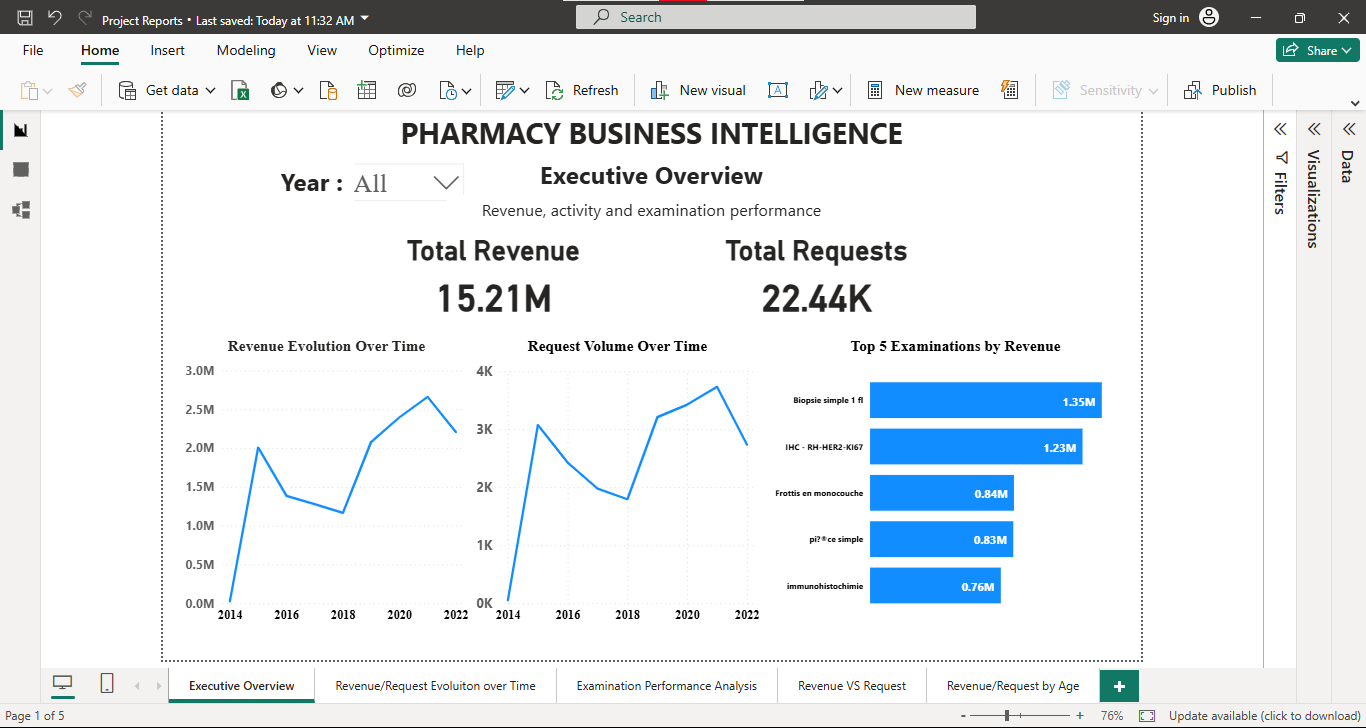

The page's visual inventory and layout, read from the dashboard file:
{"tool":"powerbi","page":{"name":"Executive Overview","canvas":[1280,720],"ordinal":0},"visuals":[{"type":"textbox","box":[268.4,0,742.3,68.1],"z":0},{"type":"slicer","fields":{"Values":["Bi Db Datamarts.Date.Variation.Hiérarchie de dates.Année"]},"box":[233,60.2,171.5,69.4],"z":2,"group":"g1"},{"type":"textbox","box":[149.2,65.4,100.8,58.9],"z":8,"group":"g1"},{"type":"textbox","box":[447.7,56.3,383.6,55],"z":1000},{"type":"card","title":"Total Revenue","fields":{"Values":["Sum(Bi Db Datamarts.CA)"]},"box":[277.5,155.8,310.3,125.7],"z":2000},{"type":"lineChart","title":"Revenue Evolution Over Time","fields":{"Y":["Sum(Bi Db Datamarts.CA)"],"Category":["Bi Db Datamarts.Date.Variation.Hiérarchie de dates.Année","Bi Db Datamarts.Date.Variation.Hiérarchie de dates.Trimestre","Bi Db Datamarts.Date.Variation.Hiérarchie de dates.Mois","Bi Db Datamarts.Date.Variation.Hiérarchie de dates.Jour"]},"box":[23.6,297.2,380.9,379.6],"z":3000},{"type":"lineChart","title":"Request Volume Over Time","fields":{"Y":["Sum(Bi Db Datamarts.Nbr Demande)"],"Category":["Bi Db Datamarts.Date.Variation.Hiérarchie de dates.Année","Bi Db Datamarts.Date.Variation.Hiérarchie de dates.Trimestre","Bi Db Datamarts.Date.Variation.Hiérarchie de dates.Mois","Bi Db Datamarts.Date.Variation.Hiérarchie de dates.Jour"]},"box":[404.5,297.2,380.9,379.6],"z":4000},{"type":"clusteredBarChart","title":"Top 5 Examinations by Revenue","fields":{"Category":["Bi Db Datamarts.Exam Designation"],"Y":["Sum(Bi Db Datamarts.CA)"]},"box":[794.6,297.2,485.7,379.6],"z":5000},{"type":"group","id":"g1","title":"Group 1","box":[149.2,60.2,255.3,69.4],"z":6000},{"type":"card","title":"Total Requests","fields":{"Values":["Sum(Bi Db Datamarts.Nbr Demande)"]},"box":[700.4,155.8,310.3,125.7],"z":7000},{"type":"textbox","box":[371.8,111.3,535.4,44.5],"z":8001}]}

Visuals, with their boxes on the page's 1280x720 design canvas (x1, y1, x2, y2). These are canvas units, not pixel positions in the 1366x728 screenshot, which may show the page scaled, cropped or inside an application window:
textbox: (268,0,1011,68)
slicer - Bi Db Datamarts.Date.Variation.Hiérarchie de dates.Année: (233,60,404,130)
textbox: (149,65,250,124)
textbox: (448,56,831,111)
"Total Revenue" card: (278,156,588,282)
"Revenue Evolution Over Time" lineChart: (24,297,404,677)
"Request Volume Over Time" lineChart: (404,297,785,677)
"Top 5 Examinations by Revenue" clusteredBarChart: (795,297,1280,677)
"Group 1" group: (149,60,404,130)
"Total Requests" card: (700,156,1011,282)
textbox: (372,111,907,156)
